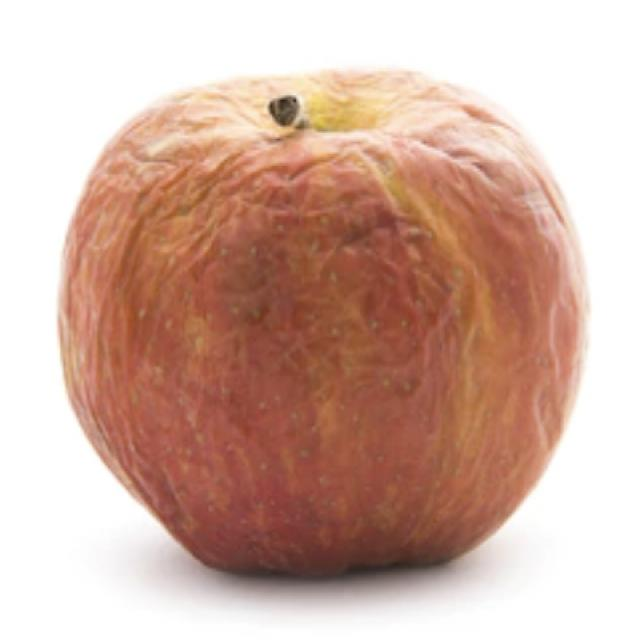rotten_apple: (63, 70, 587, 580)
